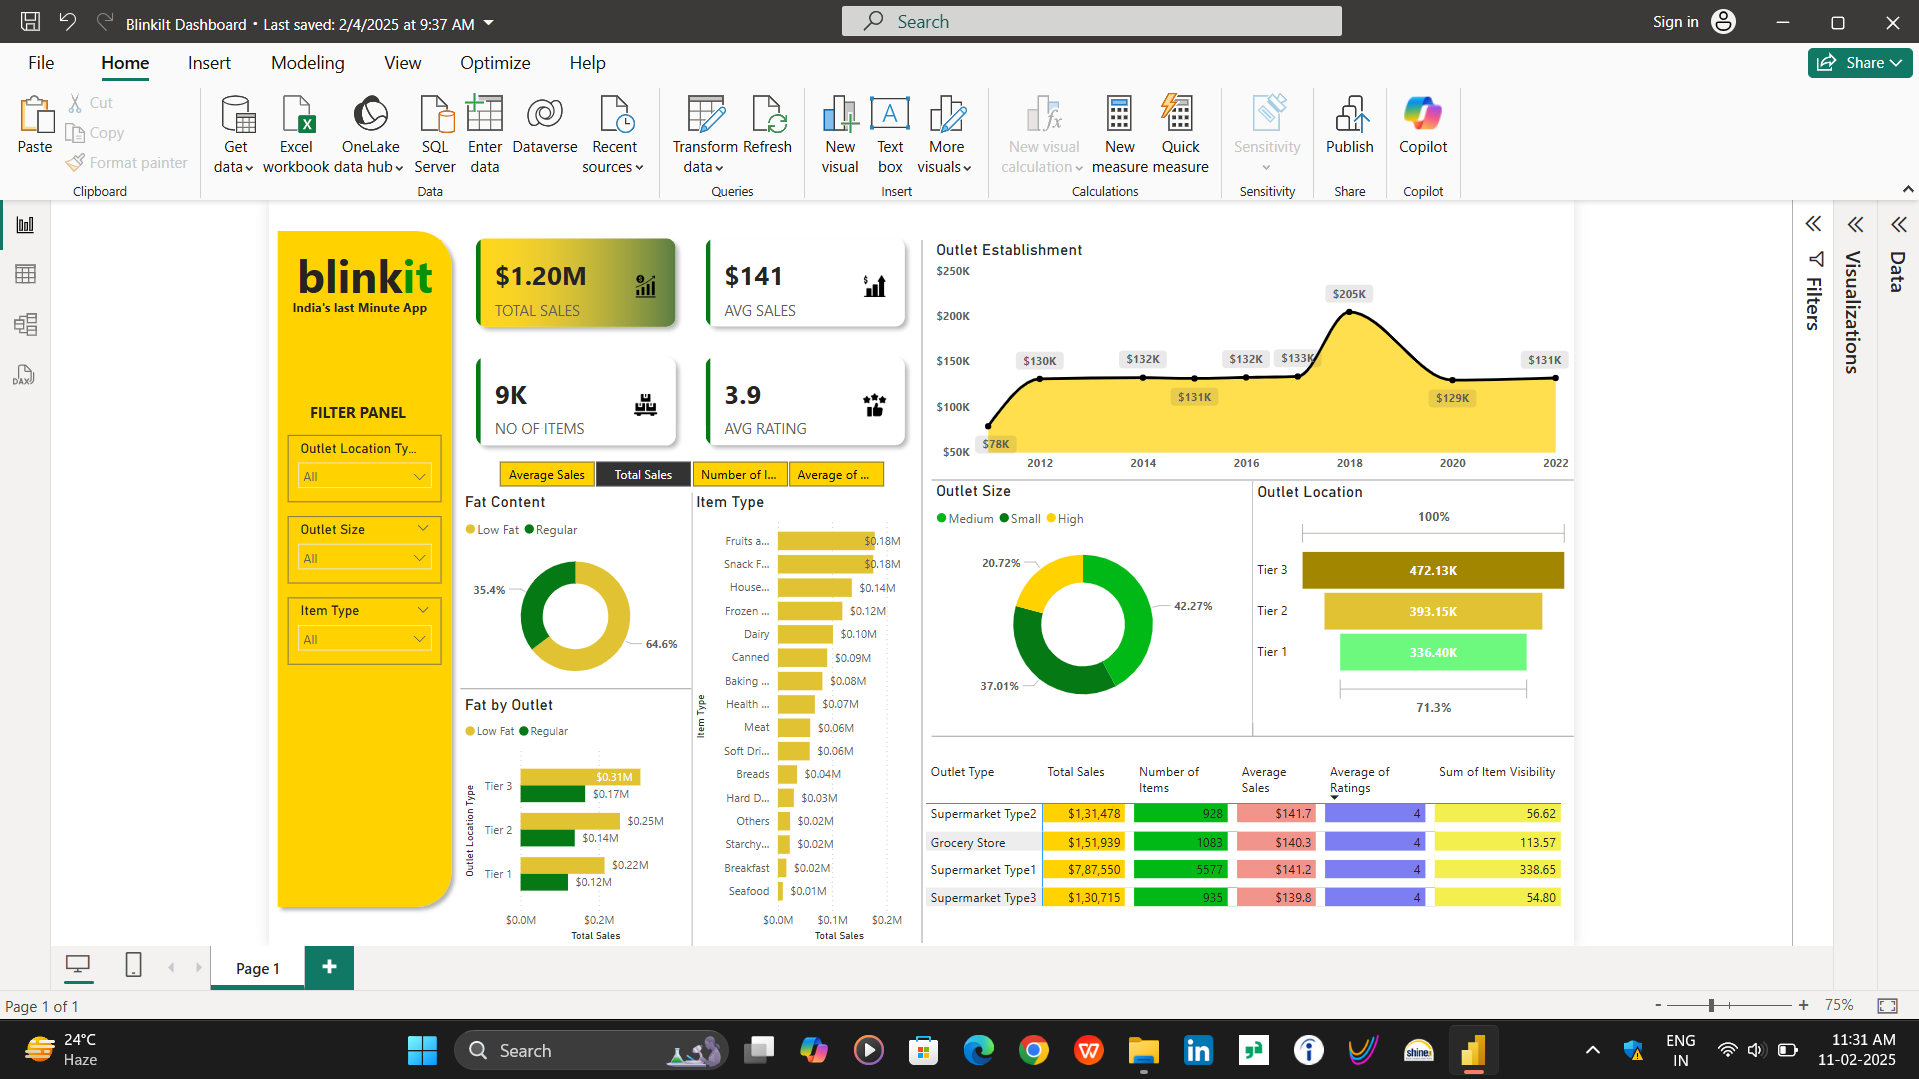

The page's visual inventory and layout, read from the dashboard file:
{"tool":"powerbi","page":{"name":"Page 1","canvas":[1400,800],"ordinal":0},"visuals":[{"type":"shape","box":[0,24.1,205.1,744],"z":0},{"type":"textbox","box":[20.1,42.9,164.9,97.9],"z":1000},{"type":"cardVisual","fields":{"Data":["BlinkIT Grocery Data.Total Sales","BlinkIT Grocery Data.Average Sales","BlinkIT Grocery Data.Number of Items","BlinkIT Grocery Data.Average of Ratings"]},"box":[205.1,24.1,494.6,257.4],"z":2000},{"type":"donutChart","title":"Fat Content","fields":{"Y":["BlinkIT Grocery Data.Total Sales"],"Category":["BlinkIT Grocery Data.Item Fat Content"]},"box":[205.1,313.7,248,217.2],"z":3000},{"type":"slicer","fields":{"Values":["Matrix.Matrix"]},"box":[221.2,273.5,462.5,40.2],"z":4000},{"type":"clusteredBarChart","title":"Fat by Outlet","fields":{"Y":["BlinkIT Grocery Data.Total Sales"],"Category":["BlinkIT Grocery Data.Outlet Location Type"],"Series":["BlinkIT Grocery Data.Item Fat Content"]},"box":[205.1,530.8,248,269.4],"z":5000},{"type":"barChart","title":"Item Type","fields":{"Category":["BlinkIT Grocery Data.Item Type"],"Y":["BlinkIT Grocery Data.Total Sales"]},"box":[453.1,313.7,246.7,486.6],"z":5001},{"type":"shape","box":[205.1,506.7,248,34.9],"z":5002},{"type":"shape","box":[434.3,313.7,38.9,486.6],"z":5003},{"type":"lineChart","title":"Outlet Establishment","fields":{"Category":["BlinkIT Grocery Data.Outlet Establishment Year"],"Y":["BlinkIT Grocery Data.Total Sales"]},"box":[710.5,42.9,689,257.4],"z":5004},{"type":"shape","box":[710.5,282.8,689,34.9],"z":5005},{"type":"donutChart","title":"Outlet Size","fields":{"Y":["BlinkIT Grocery Data.Total Sales"],"Category":["BlinkIT Grocery Data.Outlet Size"]},"box":[710.5,301.6,325.7,258.7],"z":5006},{"type":"shape","box":[1014.8,301.6,80.4,273.5],"z":5007},{"type":"funnel","title":"Outlet Location","fields":{"Category":["BlinkIT Grocery Data.Outlet Location Type"],"Y":["Sum(BlinkIT Grocery Data.Sales)"]},"box":[1055,303,344.5,257.4],"z":5008},{"type":"pivotTable","fields":{"Rows":["BlinkIT Grocery Data.Outlet Type"],"Values":["BlinkIT Grocery Data.Total Sales","BlinkIT Grocery Data.Number of Items","BlinkIT Grocery Data.Average Sales","BlinkIT Grocery Data.Average of Ratings","Sum(BlinkIT Grocery Data.Item Visibility)"]},"box":[699.7,596.5,699.7,182.3],"z":5009},{"type":"shape","box":[710.5,557.6,689,34.9],"z":5010},{"type":"shape","box":[678.3,42.9,44.2,757.4],"z":5011},{"type":"slicer","fields":{"Values":["BlinkIT Grocery Data.Outlet Location Type"]},"box":[20.1,251.7,164.9,72.4],"z":5012},{"type":"slicer","fields":{"Values":["BlinkIT Grocery Data.Outlet Size"]},"box":[20.1,338.8,164.9,72.4],"z":5013},{"type":"slicer","fields":{"Values":["BlinkIT Grocery Data.Item Type"]},"box":[20.1,425.9,164.9,72.4],"z":5014},{"type":"textbox","box":[38.9,211.8,128.7,40.2],"z":5015},{"type":"textbox","box":[20.1,100.5,164.9,40.2],"z":5016}]}

Visuals, with their boxes on the page's 1400x800 design canvas (x1, y1, x2, y2). These are canvas units, not pixel positions in the 1919x1079 screenshot, which may show the page scaled, cropped or inside an application window:
shape: BBox(0, 24, 205, 768)
textbox: BBox(20, 43, 185, 141)
cardVisual - BlinkIT Grocery Data.Total Sales x BlinkIT Grocery Data.Average Sales: BBox(205, 24, 700, 282)
"Fat Content" donutChart: BBox(205, 314, 453, 531)
slicer - Matrix.Matrix: BBox(221, 274, 684, 314)
"Fat by Outlet" clusteredBarChart: BBox(205, 531, 453, 800)
"Item Type" barChart: BBox(453, 314, 700, 800)
shape: BBox(205, 507, 453, 542)
shape: BBox(434, 314, 473, 800)
"Outlet Establishment" lineChart: BBox(710, 43, 1400, 300)
shape: BBox(710, 283, 1400, 318)
"Outlet Size" donutChart: BBox(710, 302, 1036, 560)
shape: BBox(1015, 302, 1095, 575)
"Outlet Location" funnel: BBox(1055, 303, 1400, 560)
pivotTable - BlinkIT Grocery Data.Outlet Type x BlinkIT Grocery Data.Total Sales: BBox(700, 596, 1399, 779)
shape: BBox(710, 558, 1400, 592)
shape: BBox(678, 43, 722, 800)
slicer - BlinkIT Grocery Data.Outlet Location Type: BBox(20, 252, 185, 324)
slicer - BlinkIT Grocery Data.Outlet Size: BBox(20, 339, 185, 411)
slicer - BlinkIT Grocery Data.Item Type: BBox(20, 426, 185, 498)
textbox: BBox(39, 212, 168, 252)
textbox: BBox(20, 100, 185, 141)
